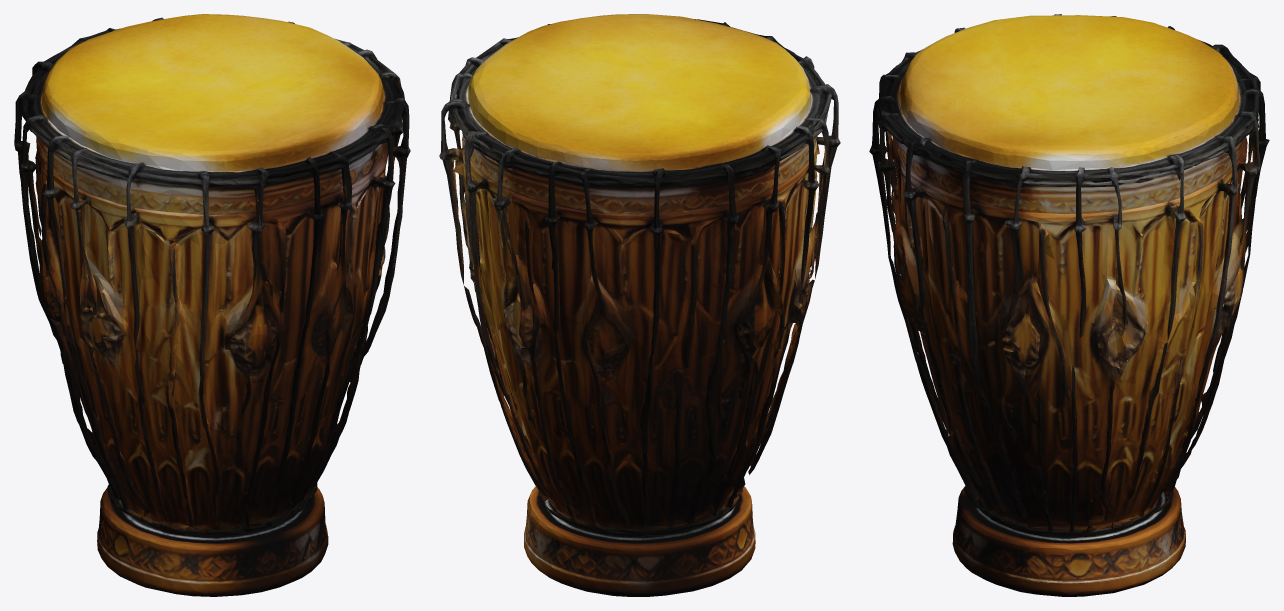
The model's file is wooden-djembe-drum-art-deco.jpeg.glb.
3 renders of one model, left to right at view 1: azimuth 30°, elevation 25°; view 2: azimuth 150°, elevation 25°; view 3: azimuth 270°, elevation 25°, orthographic.
Parts seen in each view (by area): view 1: world; view 2: world; view 3: world.
Part boxes in pixels (x1,y1,x2,y2): world: (14, 14, 410, 596); world: (439, 14, 840, 596); world: (869, 14, 1269, 596).
Bounding box in the file's own units: 0.7756 × 0.9999 × 0.7741.
Materials: 1 (1 with a texture image).
